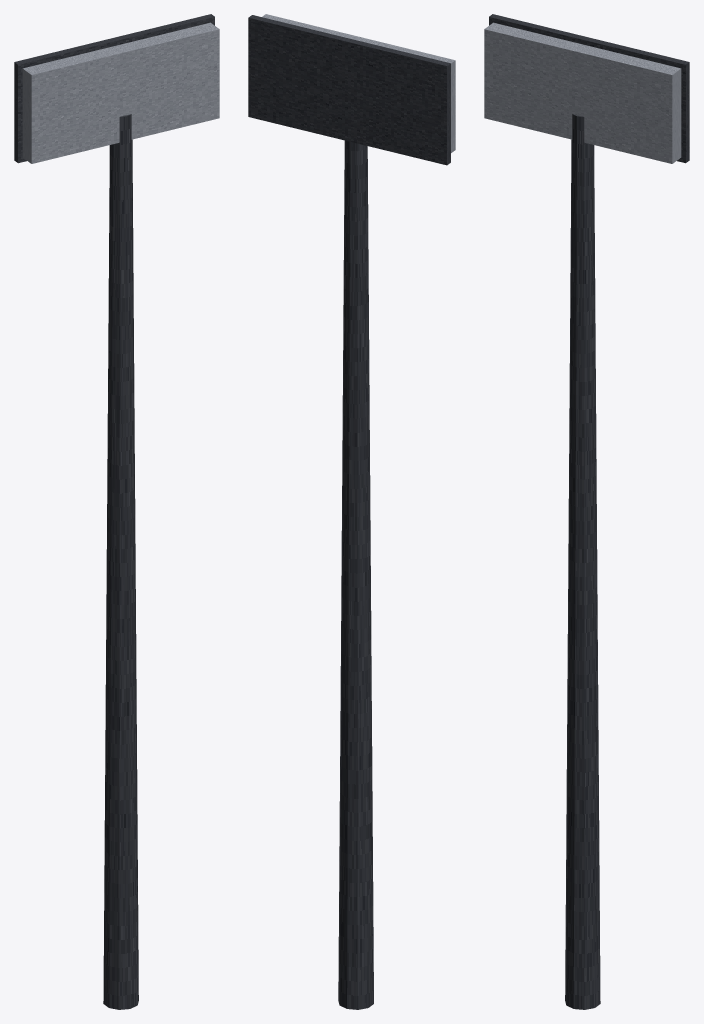
File: TorreLuz.obj
3 renders of one model, left to right at view 1: azimuth 30°, elevation 25°; view 2: azimuth 150°, elevation 25°; view 3: azimuth 330°, elevation 25°, orthographic.
Size of the model in its own units: 4.4 by 20.45 by 0.7.
2 materials, 2 textured.
